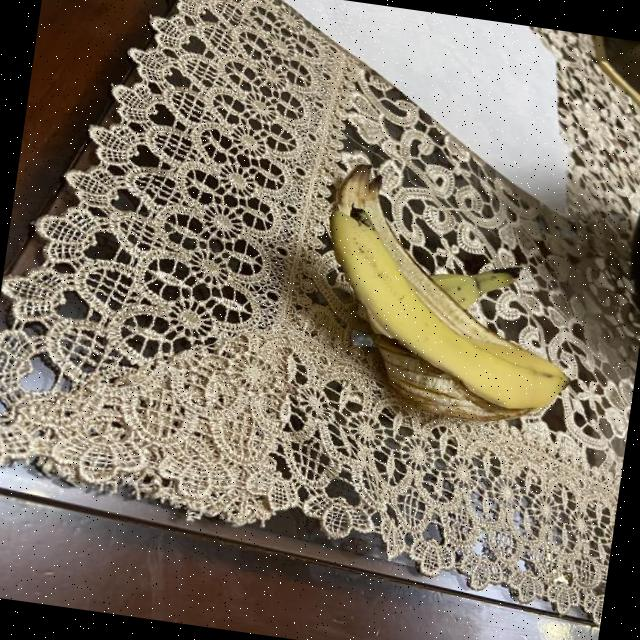banana-peel: (303, 158, 595, 428)
